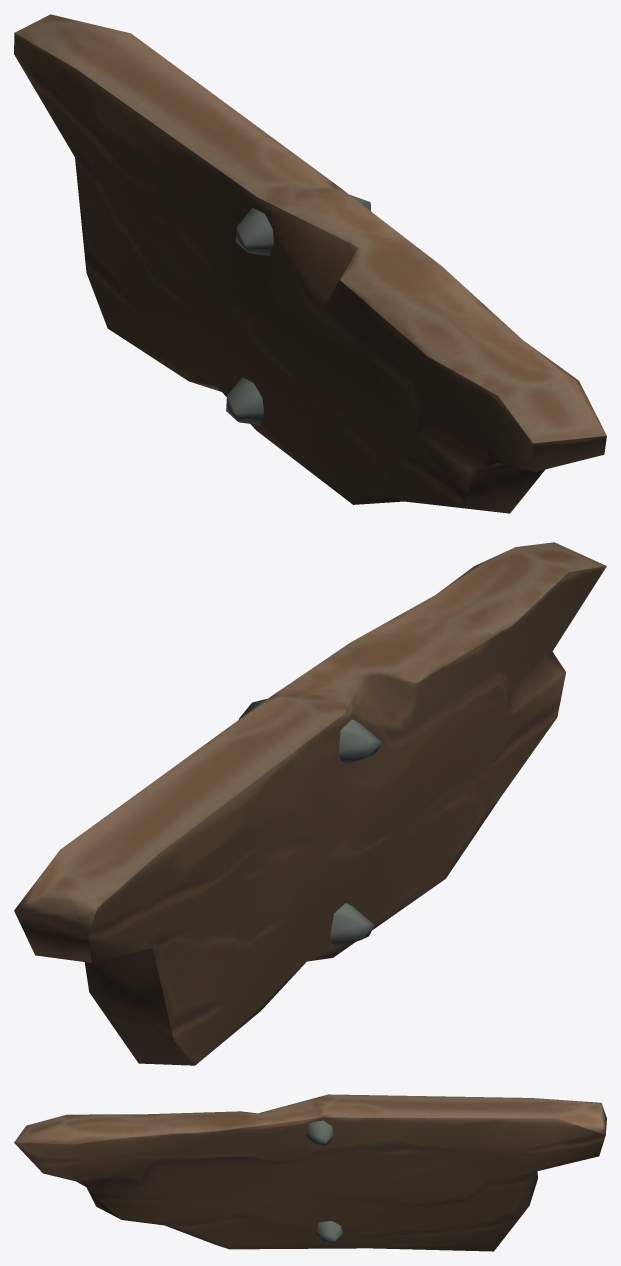
File: SM_FW01_Roadsign_06.fbx
The picture shows the model from 3 angles, top to bottom: view 1: azimuth 30°, elevation 25°; view 2: azimuth 150°, elevation 25°; view 3: azimuth 270°, elevation 25°; orthographic projection. The views are drawn at different scales.
Parts seen in each view (by area): view 1: SM_FW01_Roadsign_06_LOD0; view 2: SM_FW01_Roadsign_06_LOD0; view 3: SM_FW01_Roadsign_06_LOD0.
Boxes of the visible parts, x1,y1,x2,y2 form: SM_FW01_Roadsign_06_LOD0: (14, 14, 606, 513); SM_FW01_Roadsign_06_LOD0: (14, 542, 606, 1065); SM_FW01_Roadsign_06_LOD0: (14, 1094, 606, 1251).
Size of what is drawn, in the model's own units: 0.1223 by 0.2275 by 0.8514.
